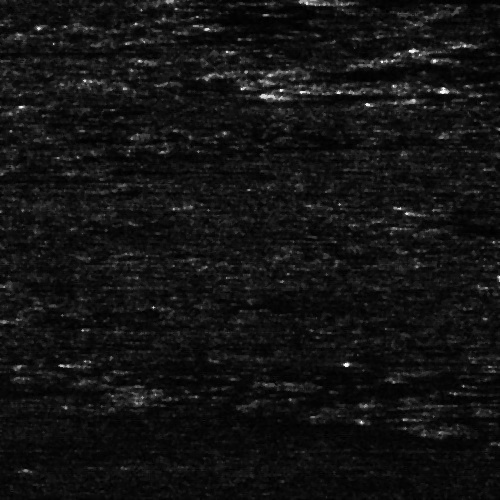object: (0, 38, 40, 57), (234, 88, 297, 97), (294, 0, 367, 4), (39, 360, 92, 365), (353, 358, 384, 363)
shadow: (0, 38, 345, 57), (66, 360, 406, 365), (266, 88, 443, 97), (330, 0, 500, 4), (0, 173, 58, 182), (369, 358, 459, 363), (0, 475, 29, 482)
